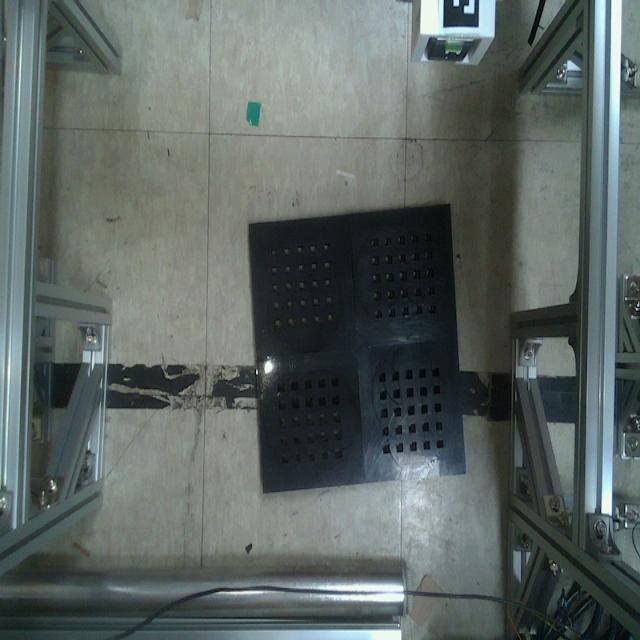pallet: (242, 198, 472, 494)
